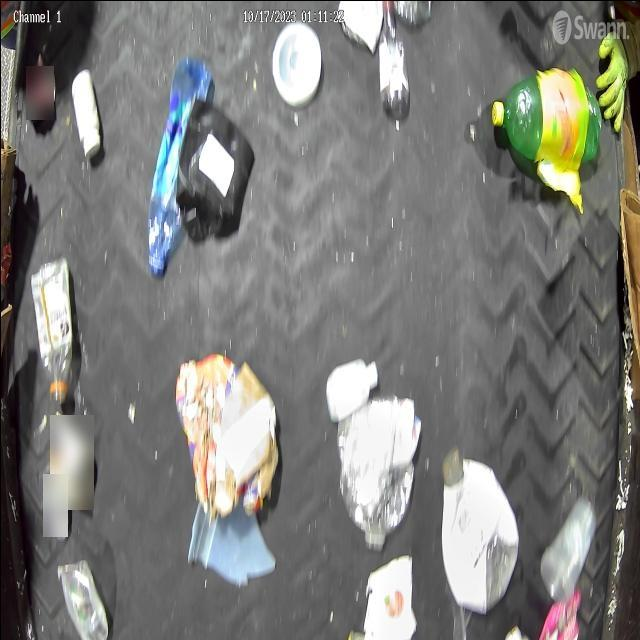plastic_bottle: (30, 260, 76, 406), (377, 1, 411, 117)
